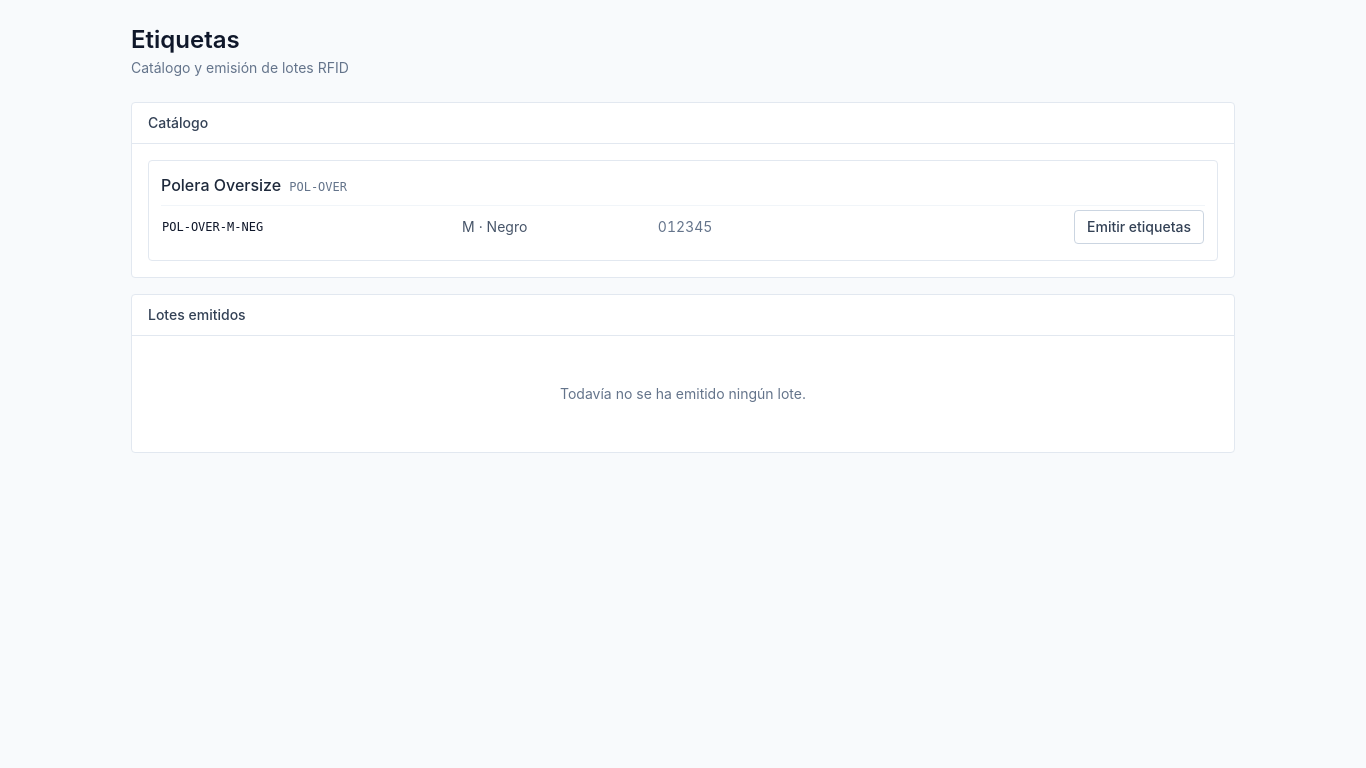
Test case: Labels › emite el lote y descarga el ZPL sin pasos extra
What coordinates should you click on to do the following:
click the button "Emitir etiquetas"
I would click on:
 (1139, 227)
Its box is 1074,210 -> 1204,244.
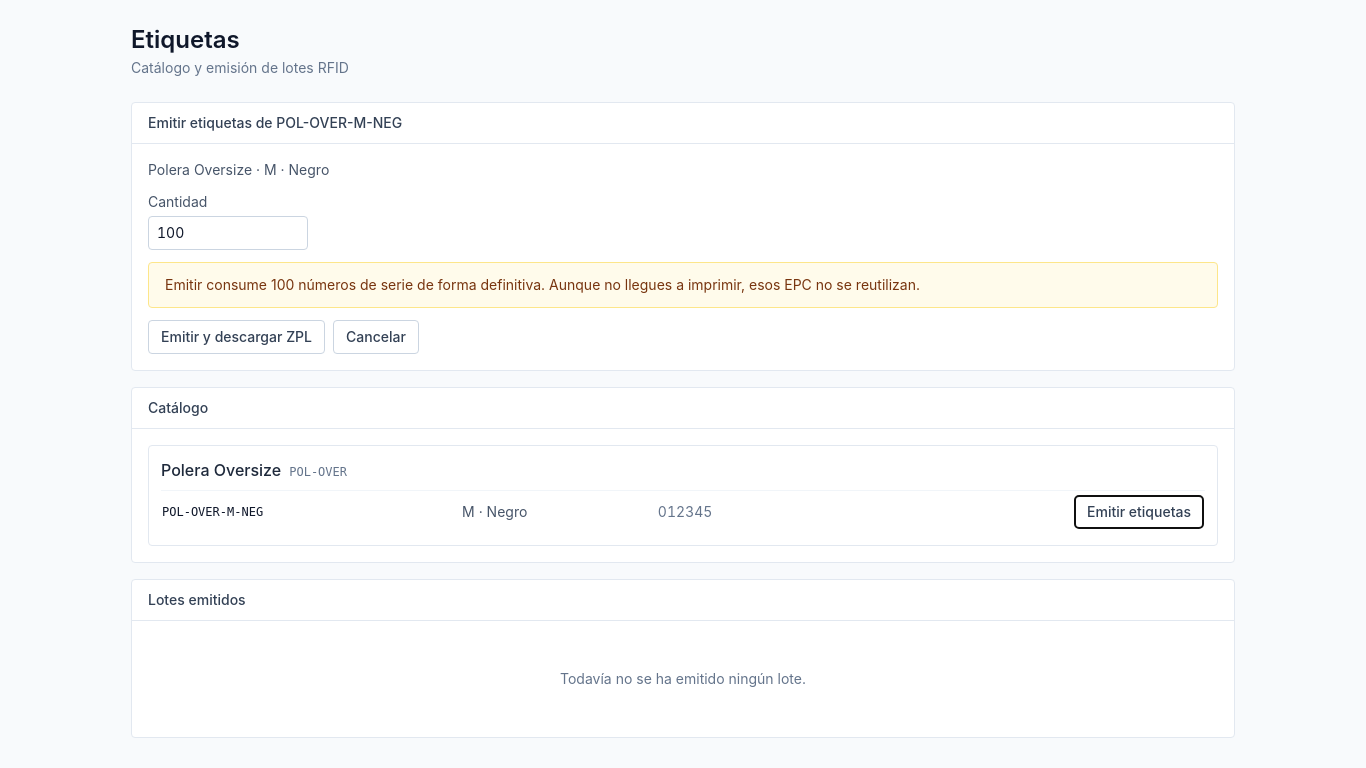
What coordinates should you click on to do the following:
click the button "Emitir y descargar ZPL"
I would click on:
 (236, 337)
Its box is 148,320 -> 325,354.
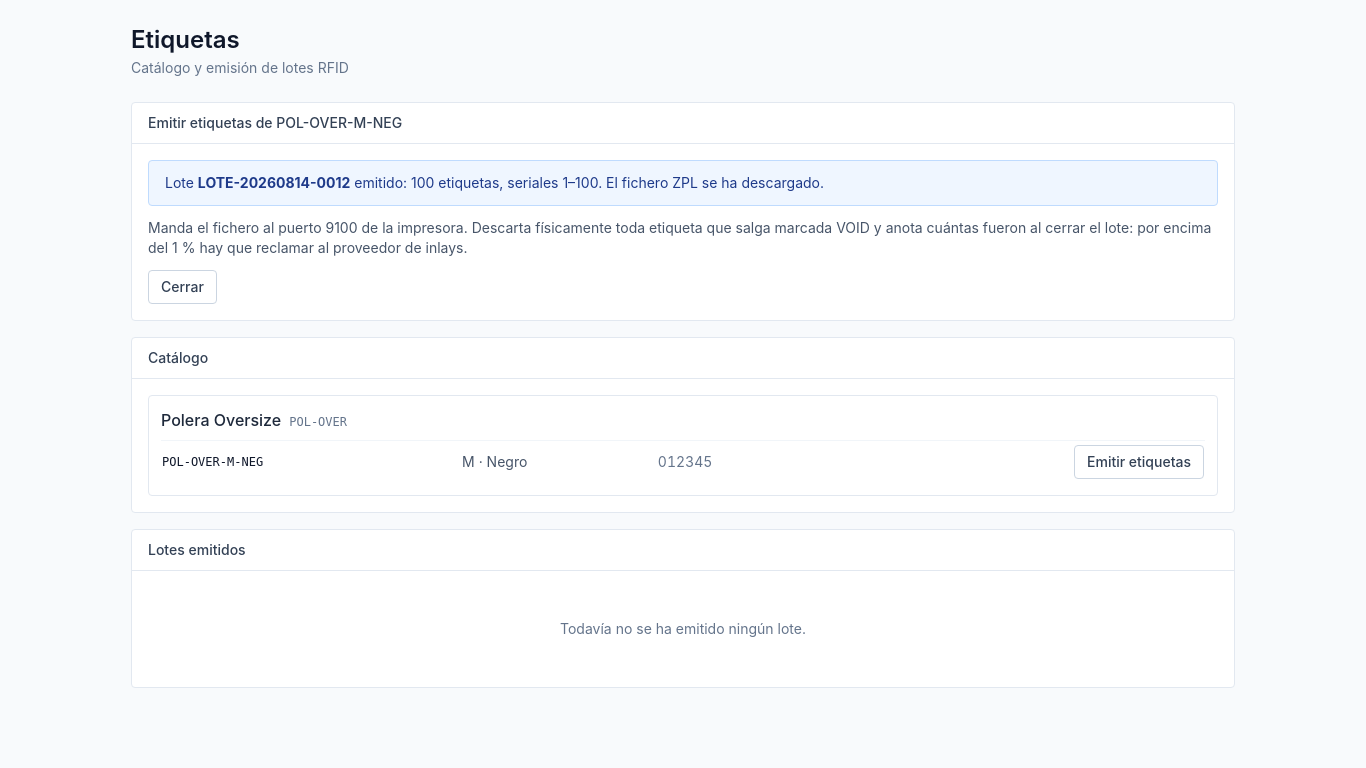
Expected: the text "LOTE-20260814-0012" is shown, 198,174 -> 350,191
